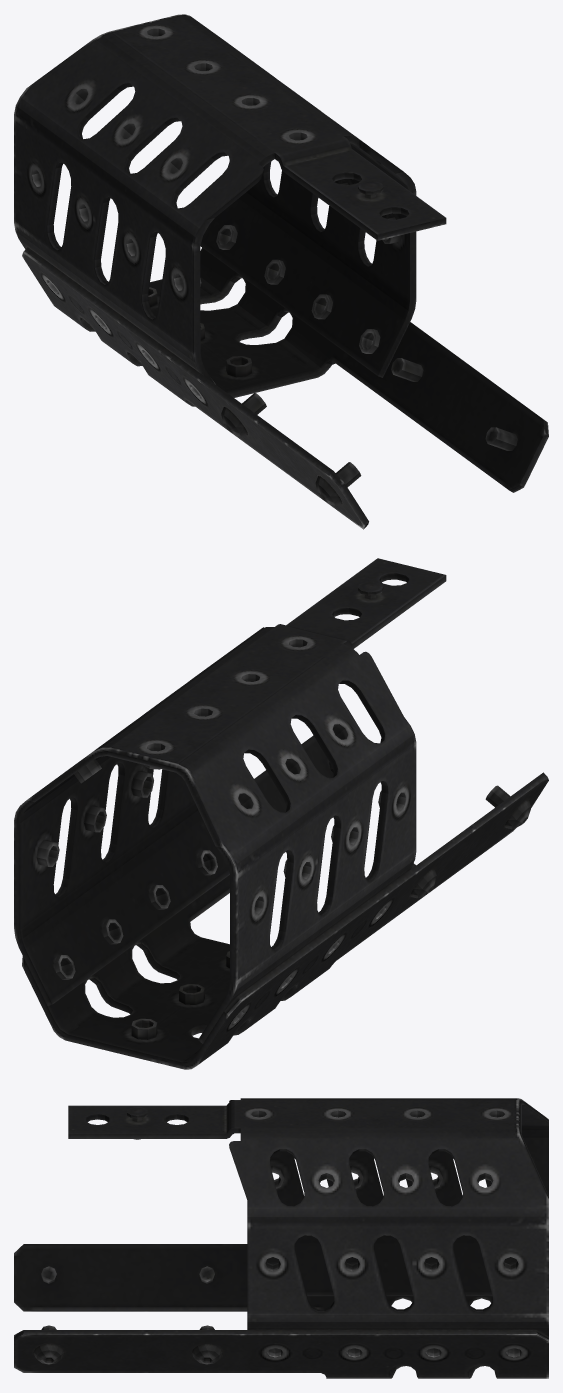
3 renders of one model, top to bottom at view 1: azimuth 30°, elevation 25°; view 2: azimuth 150°, elevation 25°; view 3: azimuth 270°, elevation 25°, orthographic. The views are drawn at different scales.
Visible parts, largest first — view 1: TW_66ffea456be19fd81e0ef742_PZ_Import; view 2: TW_66ffea456be19fd81e0ef742_PZ_Import; view 3: TW_66ffea456be19fd81e0ef742_PZ_Import.
Boxes of the visible parts, x1,y1,x2,y2 form: TW_66ffea456be19fd81e0ef742_PZ_Import: [14, 14, 548, 529]; TW_66ffea456be19fd81e0ef742_PZ_Import: [14, 558, 548, 1069]; TW_66ffea456be19fd81e0ef742_PZ_Import: [14, 1098, 548, 1378].
Size of the model in its own units: 0.0314 by 0.0781 by 0.0391.
1 material, 1 textured.
